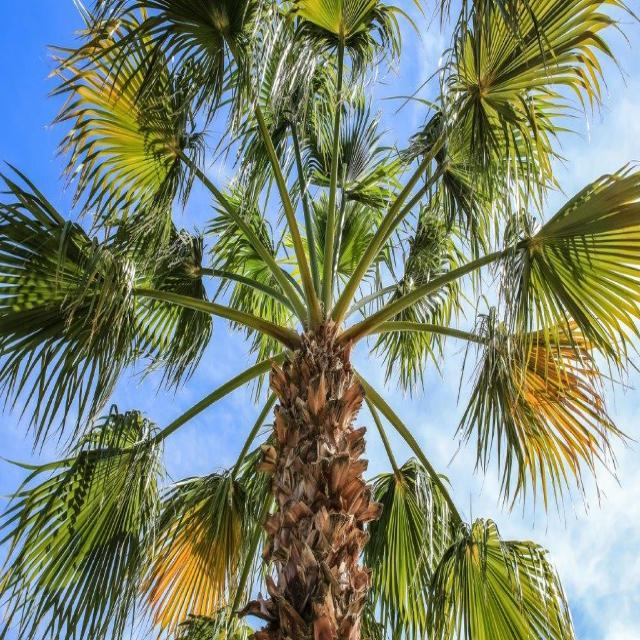Plam-Tree: (132, 55, 535, 640), (256, 135, 380, 637)
